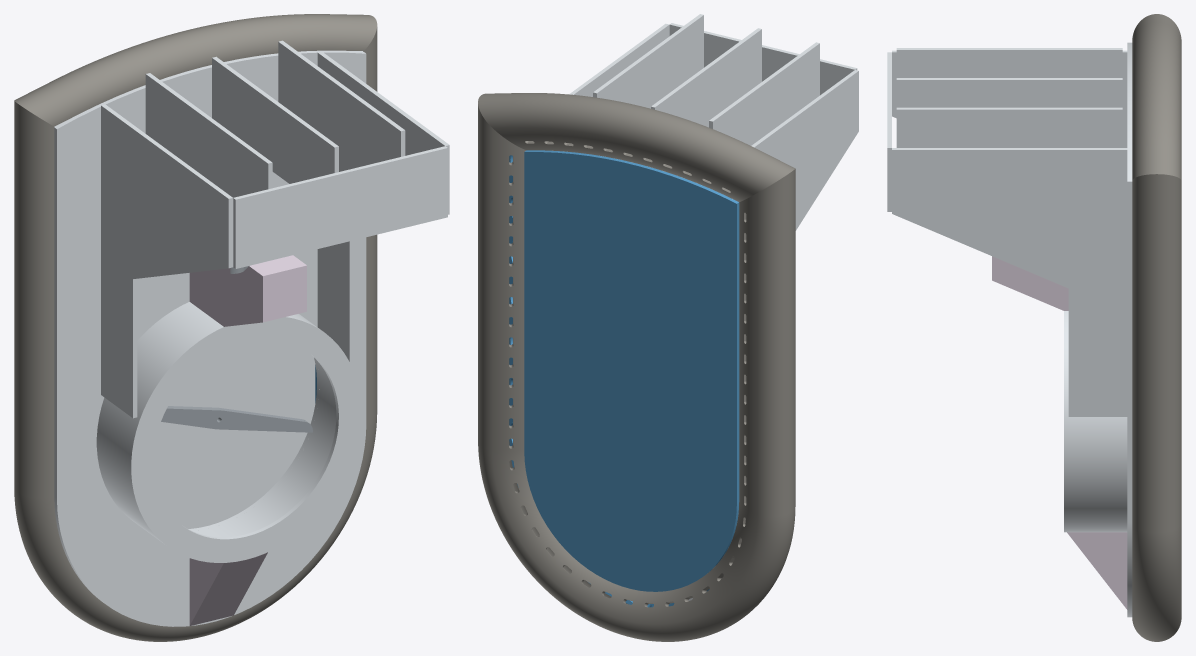
The model's file is hovercraft_mk6.gltf.
The picture shows the model from 3 angles, left to right: view 1: azimuth 30°, elevation 25°; view 2: azimuth 150°, elevation 25°; view 3: azimuth 270°, elevation 25°; orthographic projection. The views are drawn at different scales.
Visible parts, largest first — view 1: Top Plate, Skirt, Rudder Support - Starboard, Bottom Plate, Duct Cover, Rudder Support - Top Plate, Lift Duct, Port Rudder, Center Rudder, Starboard Rudder, Rudder Support - Port, Drive Motor Mount (+3 smaller); view 2: Part 20, Skirt, Rudder Support - Starboard, Starboard Rudder, Center Rudder, Port Rudder, Rudder Support - Top Plate, Rudder Support - Port, Plate Seperator; view 3: Rudder Support - Port, Skirt, Port Rudder, Lift Duct, Starboard Rudder, Center Rudder, Top Plate, Front Support, Drive Motor Mount, Duct Cover, Rudder Support - Starboard, Rudder Support - Top Plate.
Boxes of the visible parts, x1,y1,x2,y2 form: Top Plate: [54, 50, 366, 626]; Skirt: [14, 14, 377, 641]; Rudder Support - Starboard: [101, 104, 233, 418]; Bottom Plate: [153, 339, 315, 528]; Duct Cover: [128, 316, 360, 562]; Rudder Support - Top Plate: [233, 146, 447, 268]; Lift Duct: [96, 302, 336, 542]; Port Rudder: [278, 40, 405, 167]; Center Rudder: [212, 56, 338, 183]; Starboard Rudder: [145, 73, 272, 197]; Rudder Support - Port: [317, 51, 449, 364]; Drive Motor Mount: [189, 255, 306, 326]; Part 20: [524, 150, 739, 591]; Skirt: [478, 93, 795, 641]; Rudder Support - Starboard: [751, 70, 858, 230]; Starboard Rudder: [709, 42, 819, 145]; Center Rudder: [651, 28, 761, 127]; Port Rudder: [593, 14, 703, 108]; Rudder Support - Top Plate: [669, 23, 857, 95]; Rudder Support - Port: [569, 23, 669, 96]; Plate Seperator: [509, 155, 709, 607]; Rudder Support - Port: [892, 148, 1127, 416]; Skirt: [1132, 14, 1181, 641]; Port Rudder: [896, 107, 1122, 147]; Lift Duct: [1068, 417, 1127, 532]; Starboard Rudder: [896, 48, 1122, 77]; Center Rudder: [896, 78, 1122, 107]; Top Plate: [1127, 42, 1132, 617]; Front Support: [1067, 532, 1127, 609]; Drive Motor Mount: [992, 256, 1068, 310]; Duct Cover: [1064, 311, 1068, 532]; Rudder Support - Starboard: [892, 50, 1127, 147]; Rudder Support - Top Plate: [887, 52, 891, 211].
Bounding box in the file's own units: 0.4089 × 0.6629 × 0.3175.
